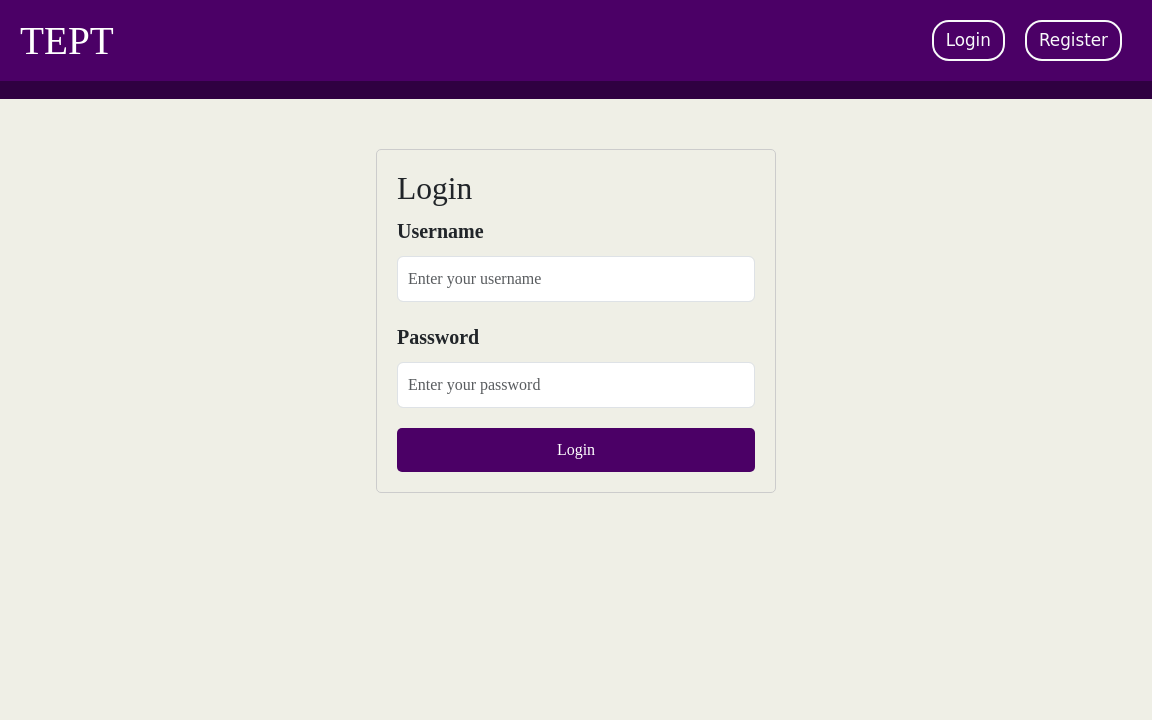
Test: Login component › should submit login form with valid credentials
Step 1. Type "testUser" into the field labelled "Username" → (576, 279), box x1=397 y1=256 x2=755 y2=302
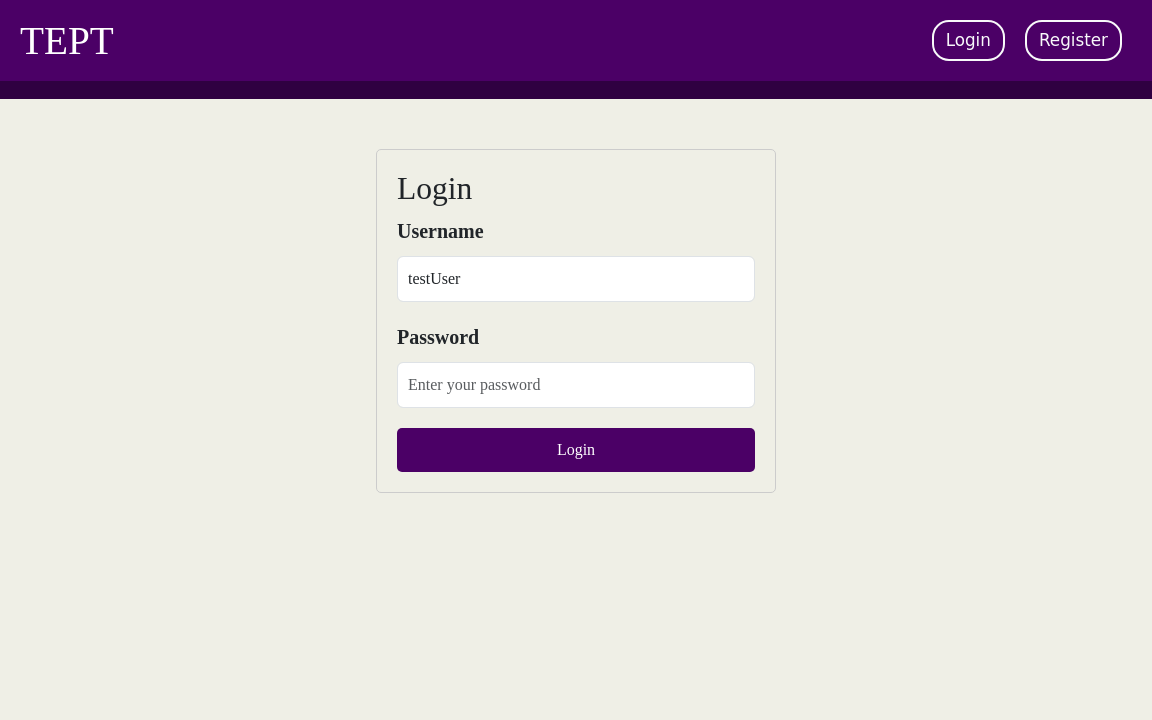
Step 2. Type "testPassword" into the password field labelled "Password" → (576, 385), box x1=397 y1=362 x2=755 y2=408
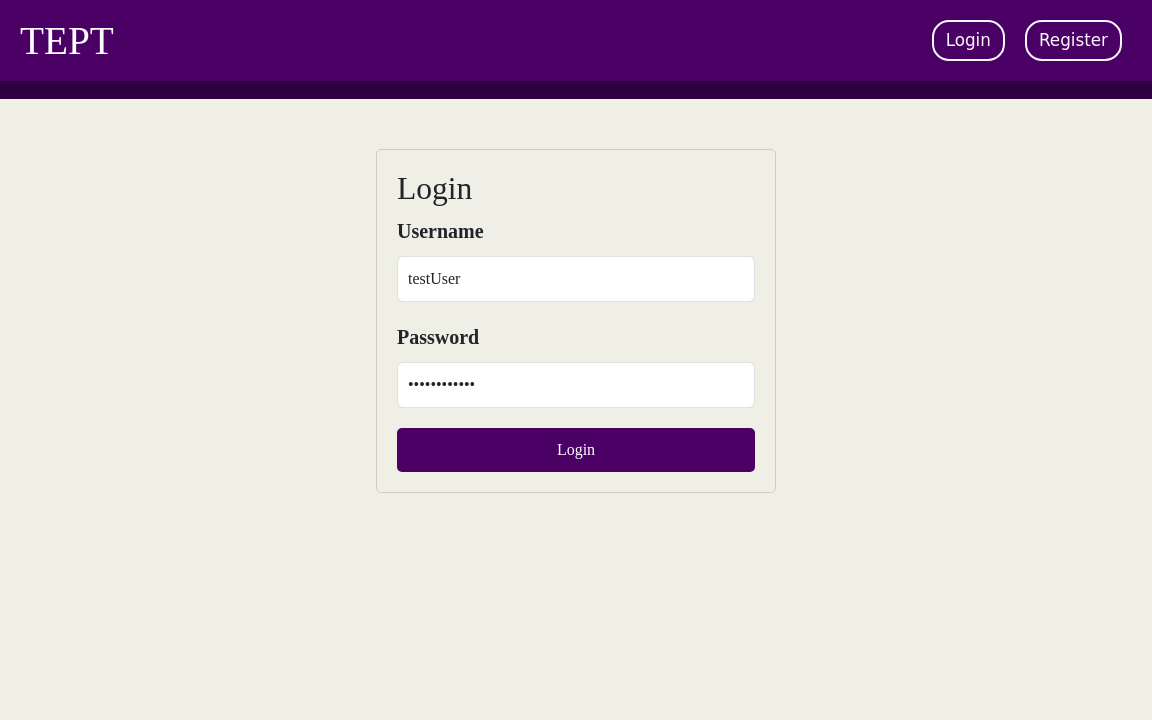
Step 3. Click the button "Login" below "Password" → (576, 450), box x1=397 y1=428 x2=755 y2=472
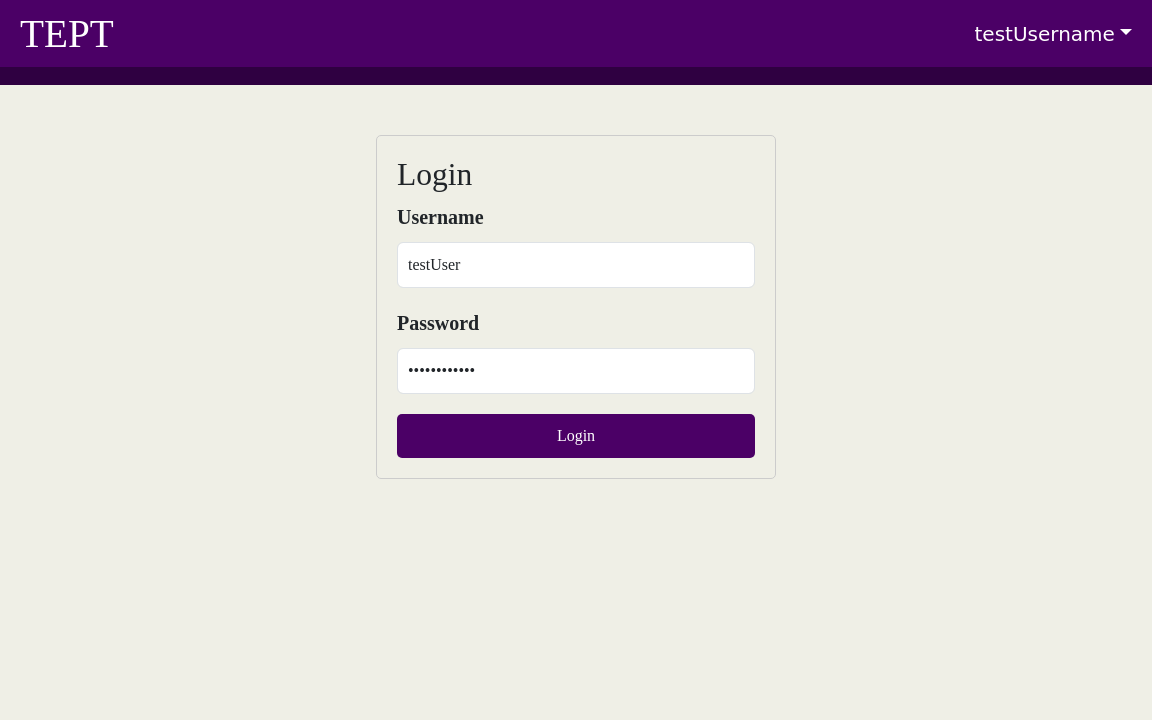
Expected: the text "testUsername" is shown, x1=974 y1=22 x2=1115 y2=46
